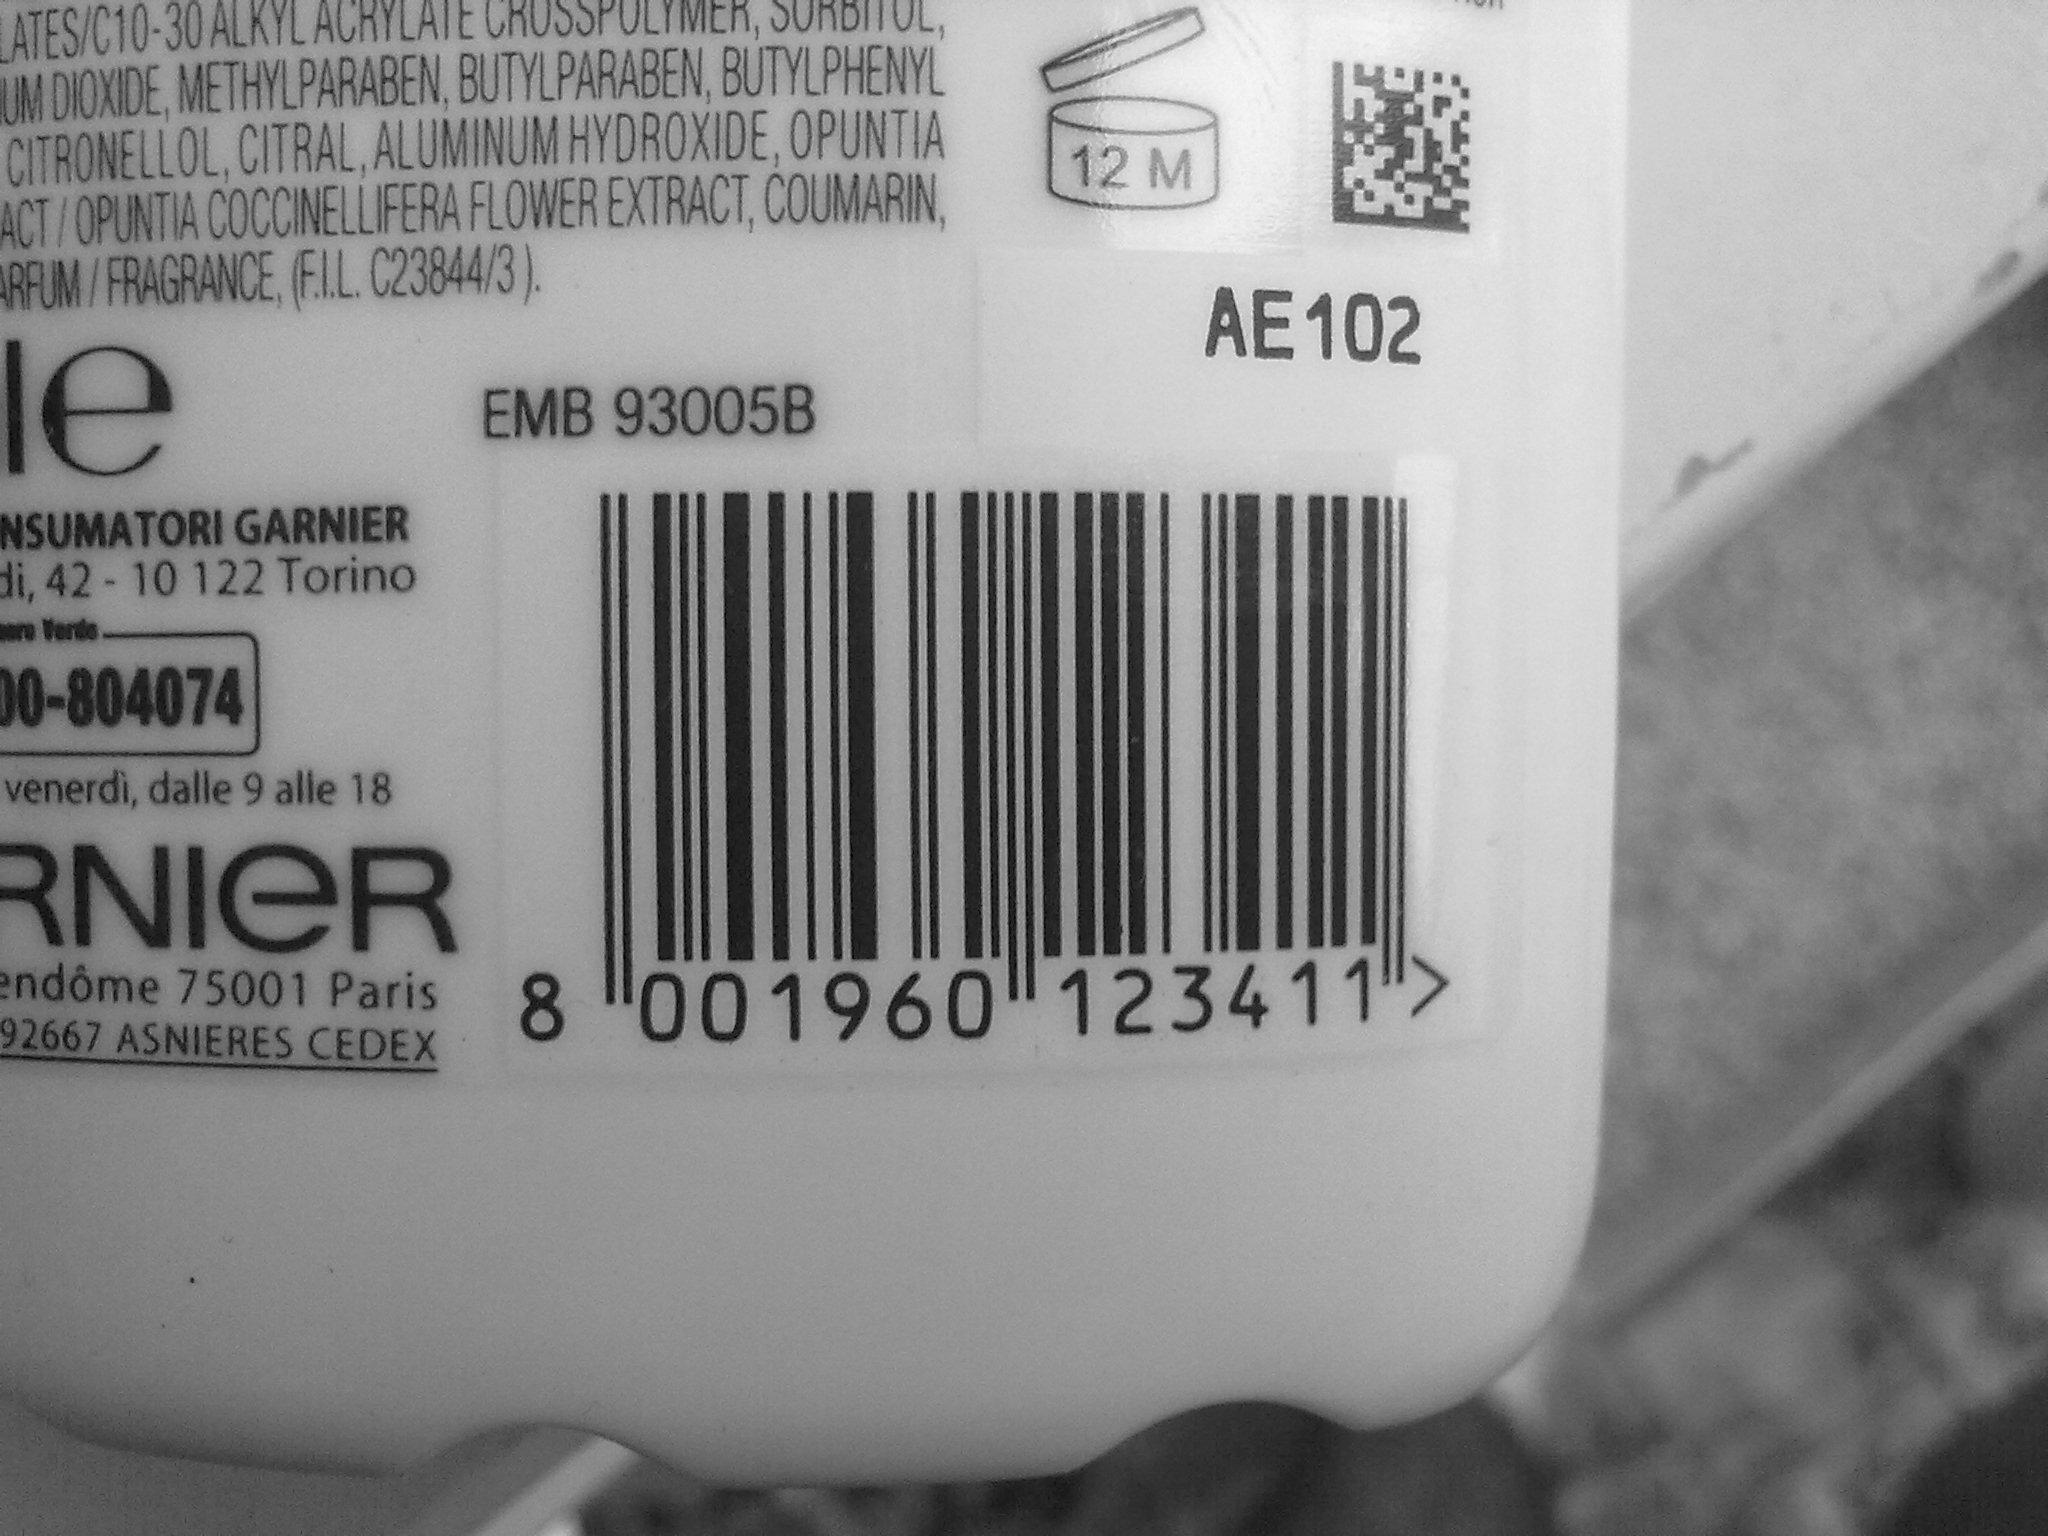Barcode: (556, 465, 1484, 1029)
